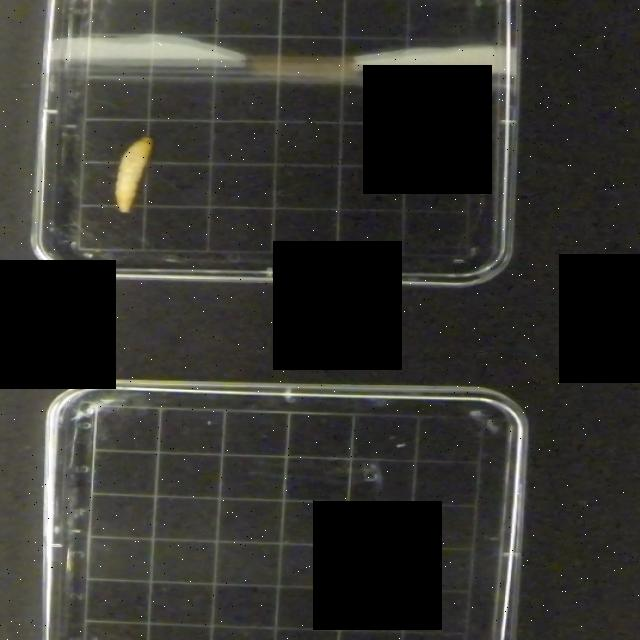larva: (110, 133, 160, 215)
